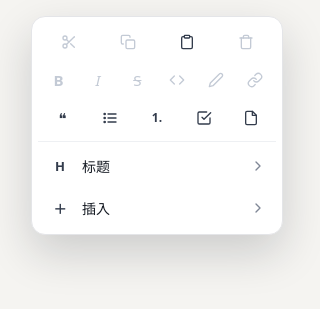
Test: 菜单动作抛错不打崩整棵子树（Bug4「白屏」的可观测定义） › 动作抛错时菜单留在原地、给出提示，并写进日志
Click the button named "备注" at (251, 118), box [229, 101, 274, 135]
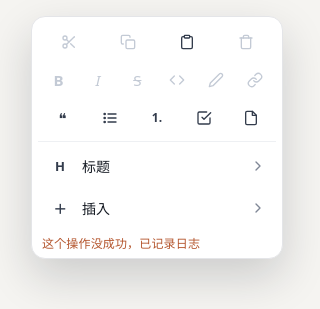
Now the text with class "edit-context-hintline" shows "没成功", box [42, 235, 200, 252]
